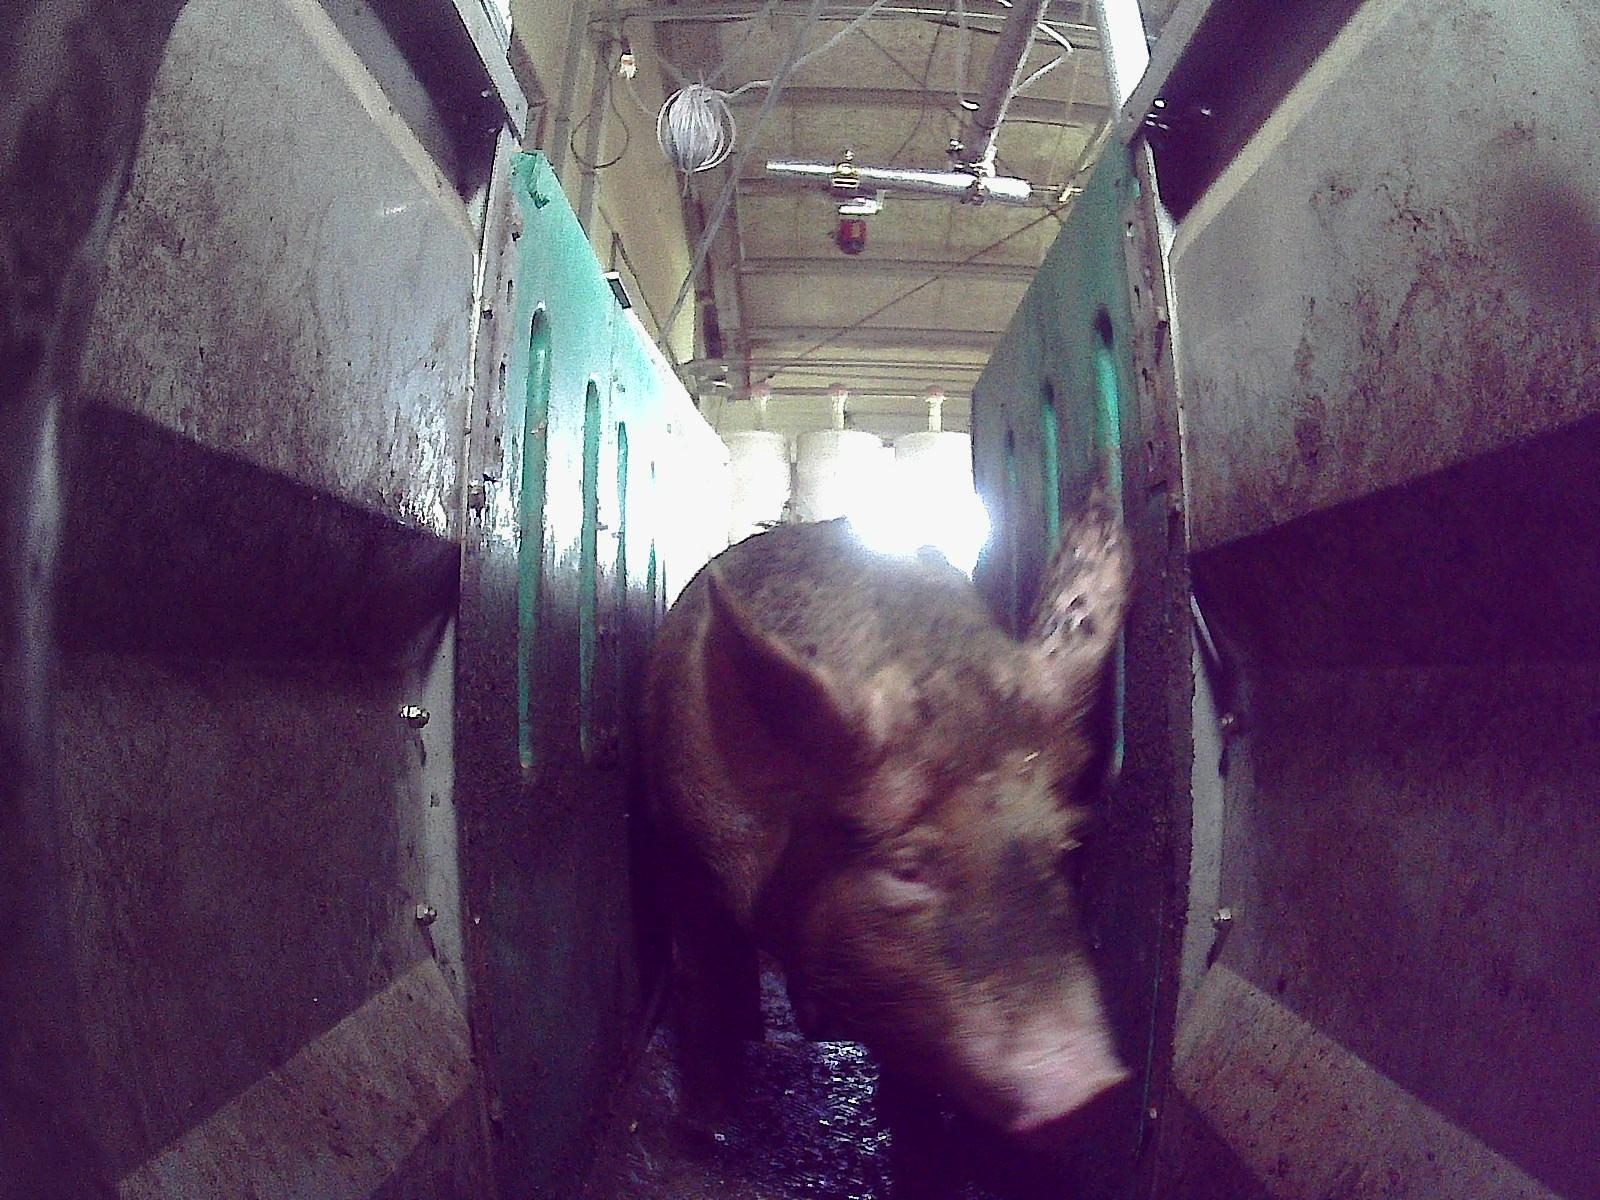Face: (785, 692, 1133, 1141)
